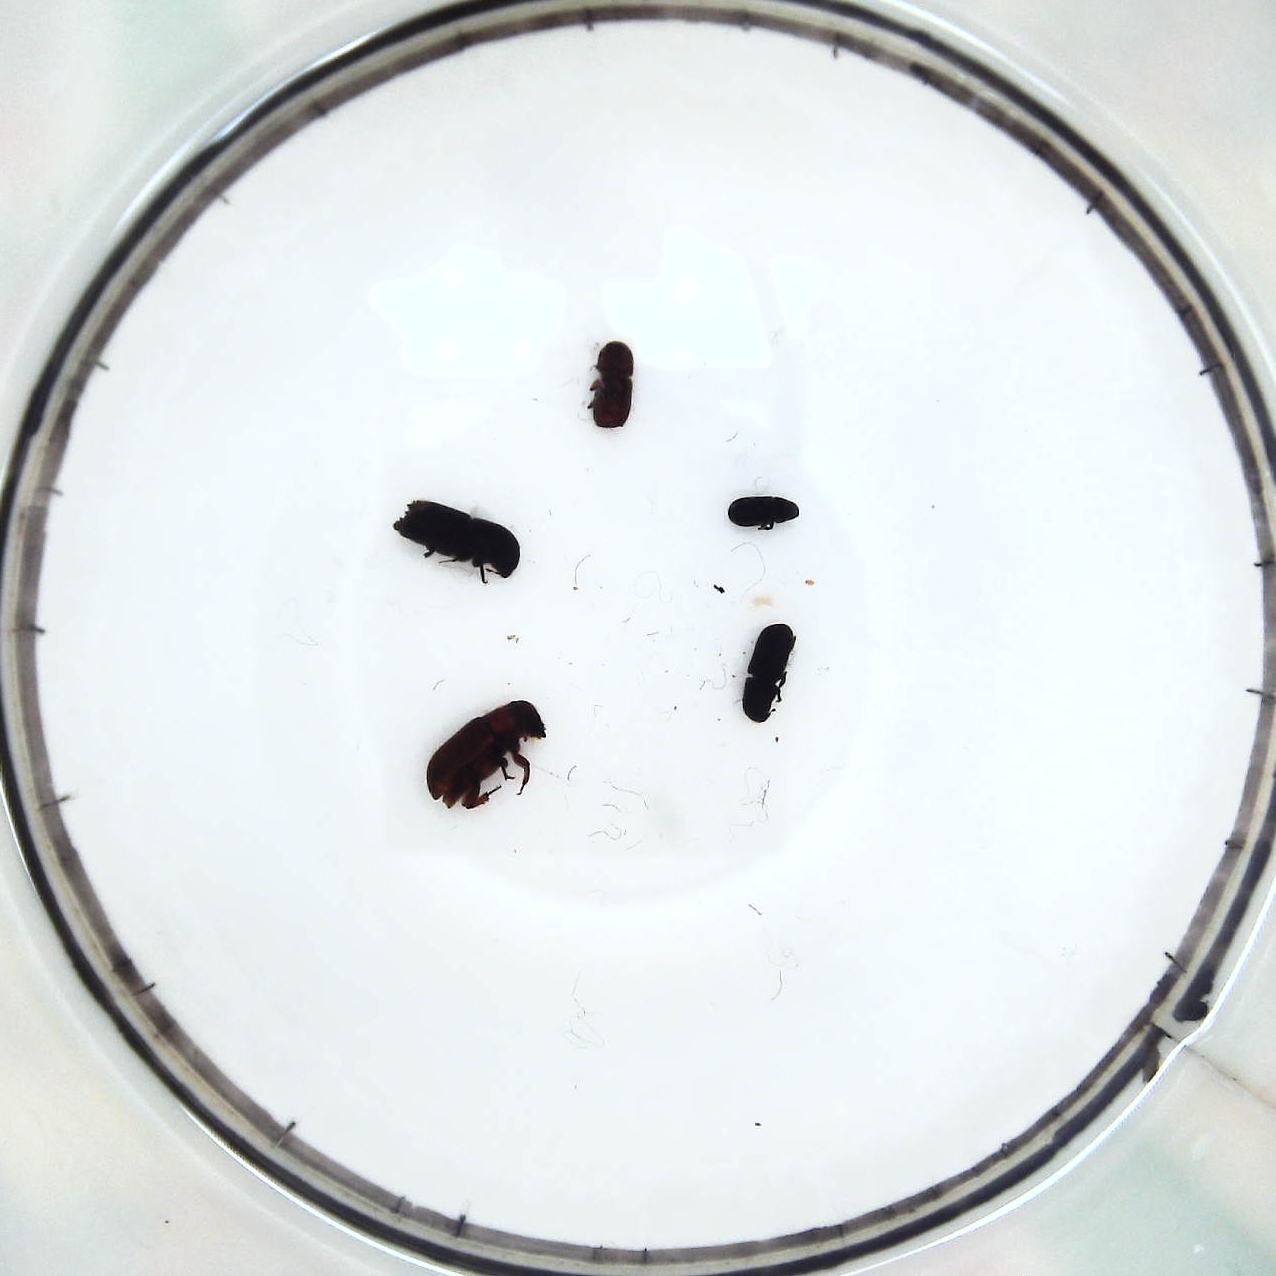Boerner: (393, 497, 525, 581)
Leconte: (423, 693, 547, 807)
Linnaeus: (585, 339, 638, 431)
armandi: (743, 620, 799, 722)
coleoptera: (724, 493, 799, 533)
